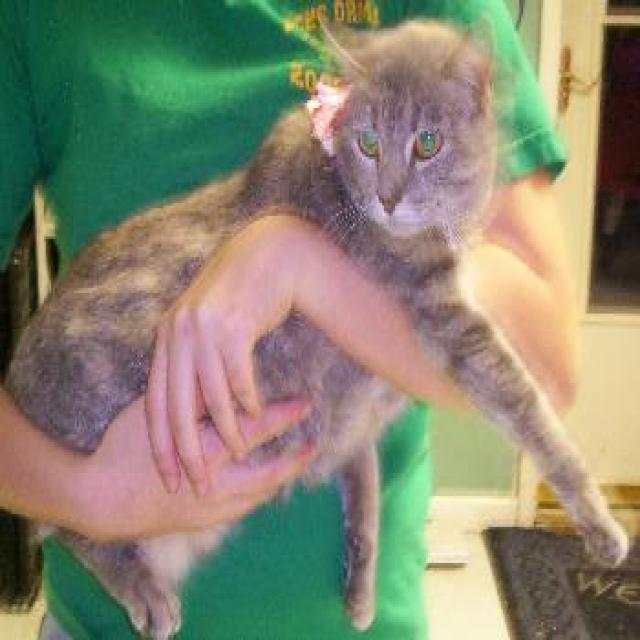Cats: (0, 13, 627, 637)
